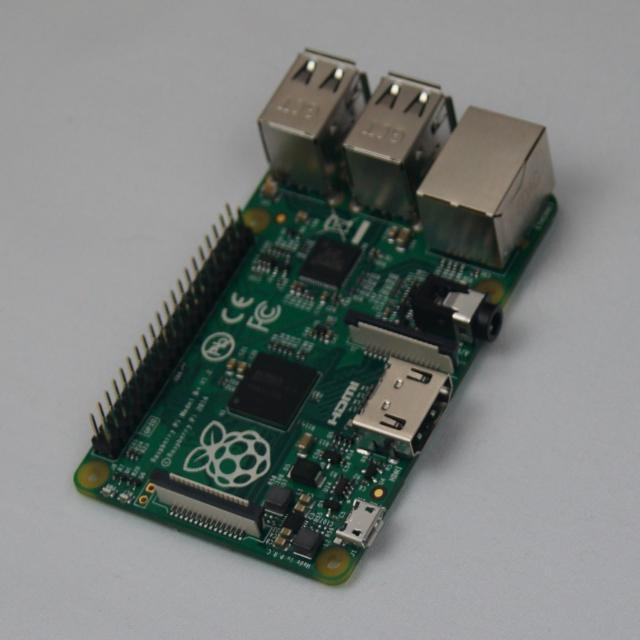Raspberry Pi 1 B-: (75, 50, 558, 585)
